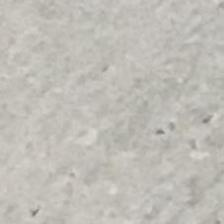Non_Crack: (13, 18, 224, 224)
